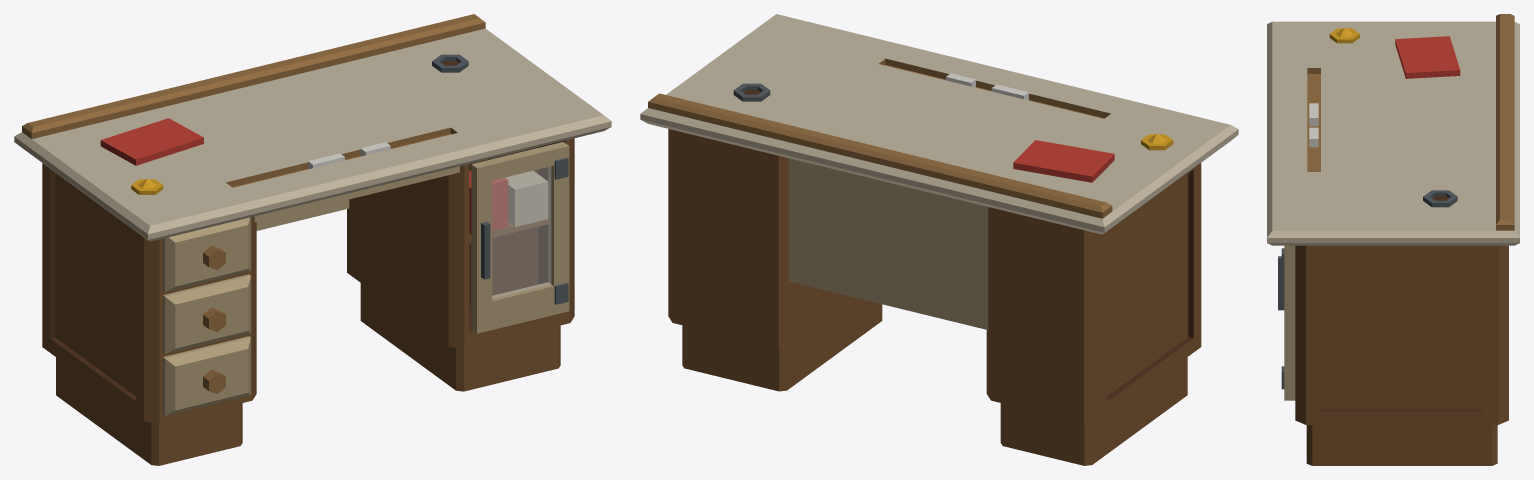
The model's file is teacher-s-desk-381eeb.glb.
3 renders of one model, left to right at view 1: azimuth 30°, elevation 25°; view 2: azimuth 150°, elevation 25°; view 3: azimuth 270°, elevation 25°, orthographic. The views are drawn at different scales.
Visible parts, largest first — view 1: teachers-desk, door, drawer-top; view 2: teachers-desk; view 3: teachers-desk, door.
Part boxes in pixels (box(x1,y1,x2,y2)): teachers-desk: box(14, 14, 611, 465); door: box(471, 141, 569, 333); drawer-top: box(163, 217, 250, 292); teachers-desk: box(640, 14, 1238, 465); teachers-desk: box(1267, 14, 1519, 465); door: box(1278, 245, 1295, 400).
Bounding box in the file's own units: 1.4 × 0.781 × 0.7.
